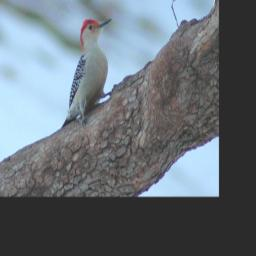Woodpecker: (60, 17, 114, 131)
